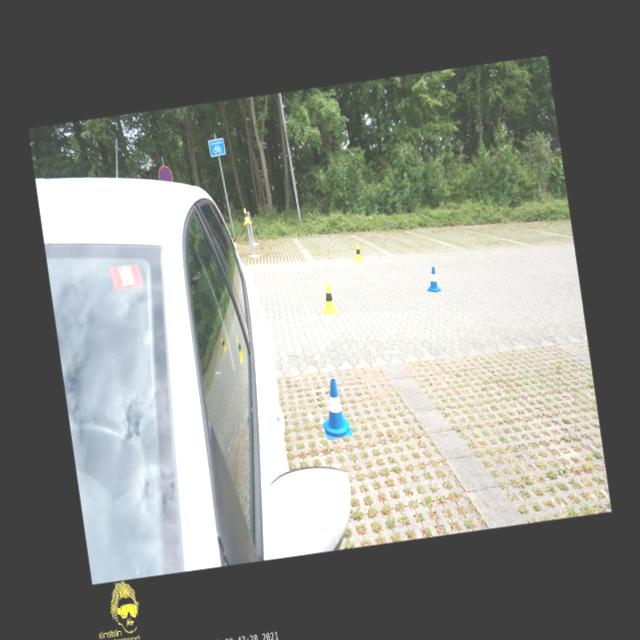blue_cone: (318, 378, 352, 440), (424, 266, 441, 293)
yellow_cone: (318, 284, 338, 316), (353, 244, 363, 262), (242, 207, 252, 224)
